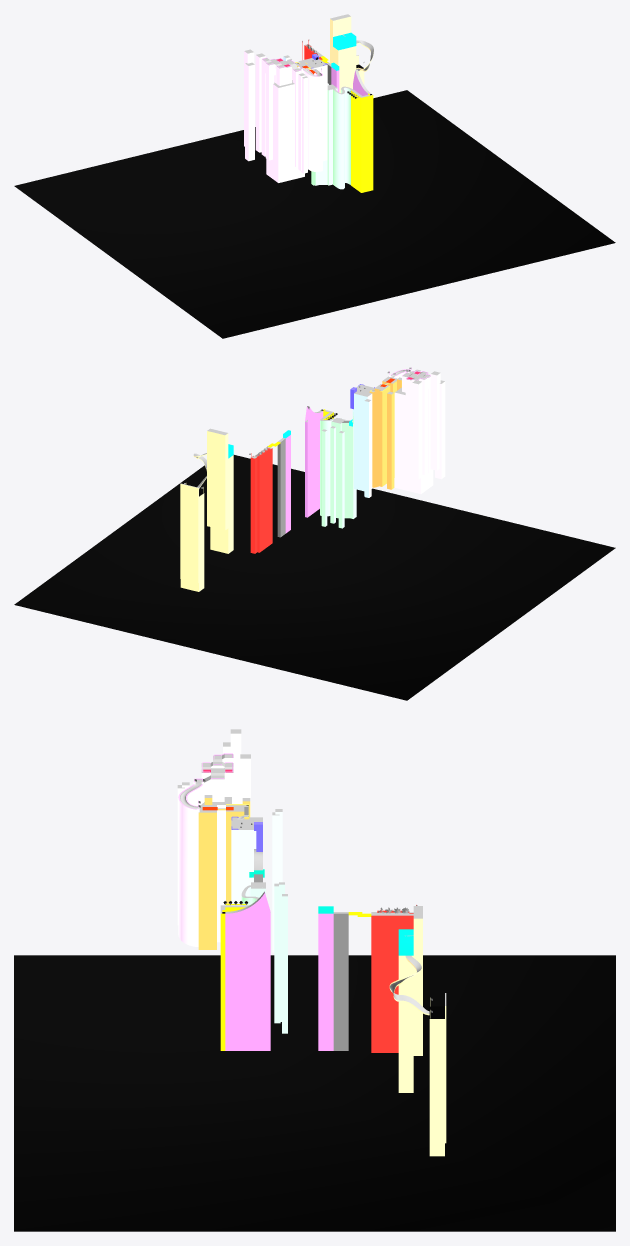
File: ultimaterace.fbx
3 views of the same model, one above another, from view 1: azimuth 30°, elevation 25°; view 2: azimuth 150°, elevation 25°; view 3: azimuth 270°, elevation 25° (orthographic). The views are drawn at different scales.
Parts seen in each view (by area): view 1: E:LIMIT, Instance.029, Instance.103, Instance.019, Instance.105, Instance.025, Instance.108, Instance.003, Instance.143, Instance.023, Instance.097, Instance.033 (+3 smaller); view 2: E:LIMIT, Instance.151, Instance.159, Instance.029, Instance.110, Instance.065, Instance.125, Instance.023, Instance.143, Instance.027, Instance.147, Instance.117 (+15 smaller); view 3: E:LIMIT, Instance.110, Instance.125, Instance.019, Instance.037, Instance.115, Instance.117, Instance.157, Instance.143, Instance.151, Instance.029, Instance.137 (+3 smaller).
Boxes of the visible parts, x1,y1,x2,y2 form: E:LIMIT: (14, 90, 615, 338); Instance.029: (266, 84, 304, 182); Instance.103: (333, 87, 350, 189); Instance.019: (303, 70, 322, 171); Instance.105: (351, 90, 363, 192); Instance.025: (245, 63, 254, 161); Instance.108: (364, 95, 373, 192); Instance.003: (265, 63, 274, 160); Instance.143: (333, 46, 356, 93); Instance.023: (255, 55, 265, 152); Instance.097: (327, 88, 337, 185); Instance.033: (301, 77, 307, 173); E:LIMIT: (14, 455, 615, 700); Instance.151: (207, 431, 228, 530); Instance.159: (180, 484, 198, 583); Instance.029: (394, 392, 433, 493); Instance.110: (305, 411, 323, 517); Instance.065: (354, 393, 373, 491); Instance.125: (257, 448, 272, 552); Instance.023: (412, 382, 422, 479); Instance.143: (210, 455, 233, 553); Instance.027: (430, 373, 440, 470); Instance.147: (258, 449, 270, 551); Instance.117: (277, 439, 285, 537); E:LIMIT: (14, 955, 615, 1231); Instance.110: (225, 913, 270, 1050); Instance.125: (371, 915, 409, 1052); Instance.019: (178, 798, 197, 946); Instance.037: (198, 812, 216, 949); Instance.115: (318, 913, 333, 1050); Instance.117: (333, 913, 348, 1050); Instance.157: (429, 1019, 444, 1156); Instance.143: (398, 955, 413, 1092); Instance.151: (413, 918, 422, 1055); Instance.029: (217, 805, 225, 942); Instance.137: (282, 896, 287, 1033).
Size of the model in its own units: 43200 by 21600 by 39750.
